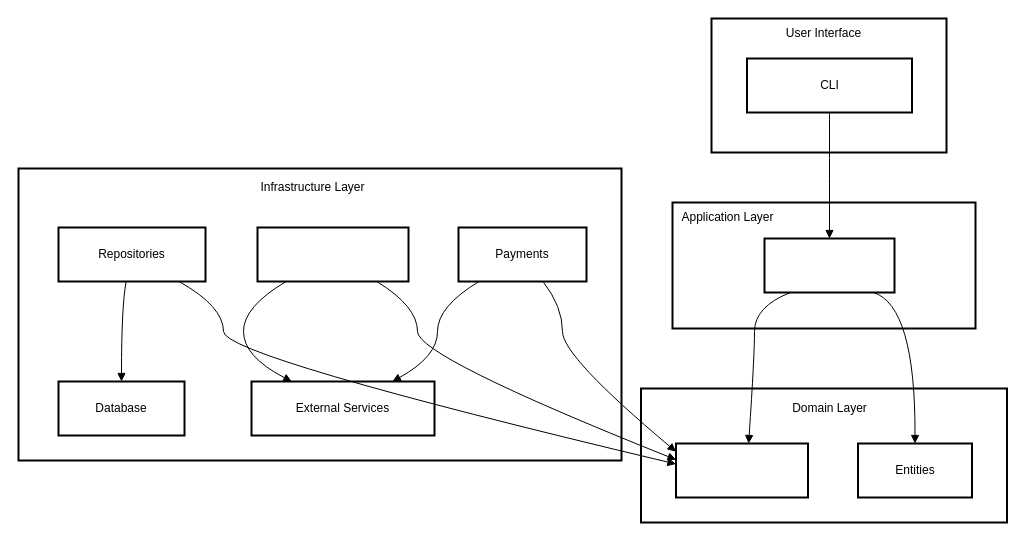
This 1025x540 diagram has some shape labels left out. Here are the shapes that lost their labels. From the top down, the box of each, then its label:
(256, 226, 409, 282): Notifications
(763, 237, 895, 293): Use Cases
(674, 442, 808, 498): Interfaces
